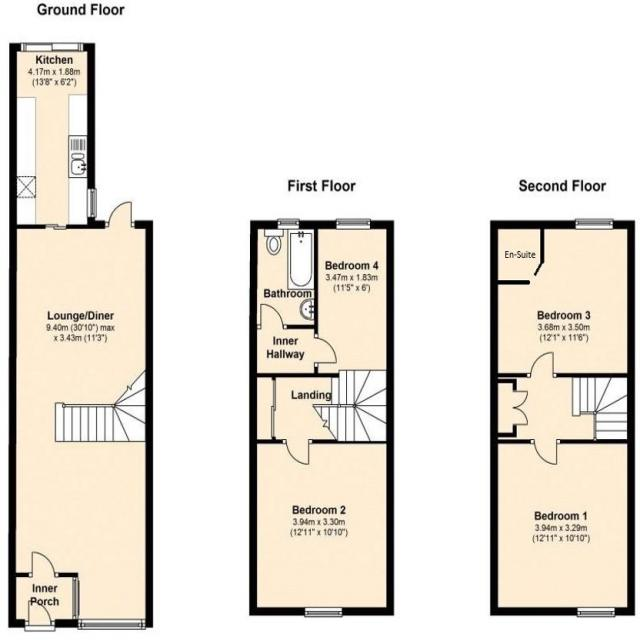DOOR: (25, 597, 56, 632), (104, 198, 135, 230), (281, 439, 312, 468), (257, 301, 288, 330), (527, 349, 556, 378), (529, 439, 559, 467), (314, 334, 339, 367), (30, 549, 58, 577)
ROOM: (8, 220, 154, 628), (249, 438, 394, 616), (490, 439, 635, 616), (9, 43, 96, 229), (313, 220, 394, 375)
WINDOW: (79, 617, 147, 632), (18, 41, 86, 55), (573, 216, 616, 233), (302, 603, 344, 619), (575, 605, 616, 620), (335, 216, 373, 231), (86, 187, 99, 220), (276, 217, 301, 231)
